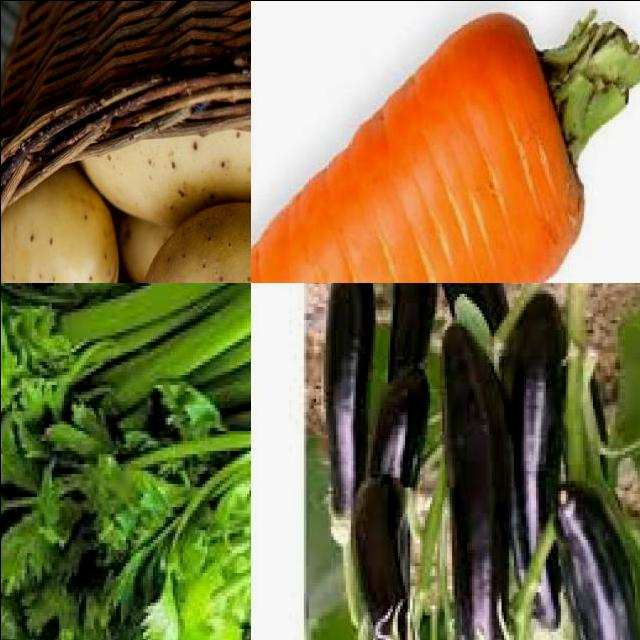carrot: (251, 1, 599, 283)
eggplant: (443, 333, 517, 640), (512, 298, 566, 640), (557, 495, 640, 640), (329, 283, 374, 547), (356, 481, 420, 640), (413, 283, 507, 350)
potato: (75, 76, 251, 234), (1, 160, 124, 283)
